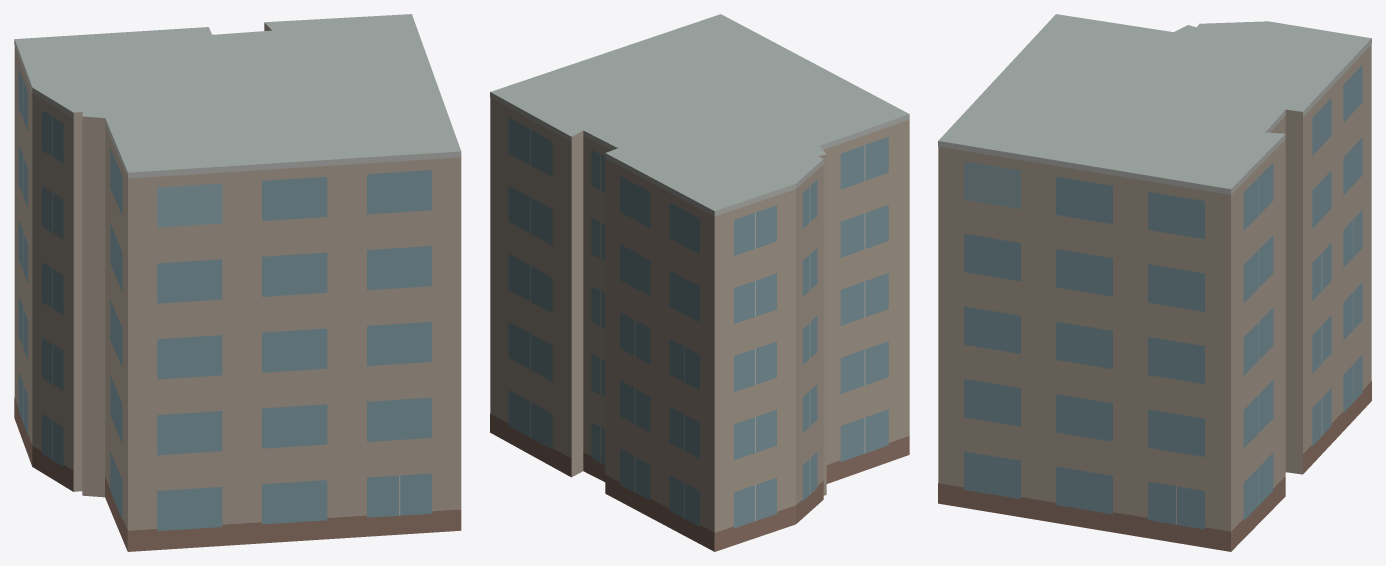
Rendered from survey-upis-33043607.glb.
3 renders of one model, left to right at view 1: azimuth 30°, elevation 25°; view 2: azimuth 150°, elevation 25°; view 3: azimuth 270°, elevation 25°, orthographic. The views are drawn at different scales.
Parts seen in each view (by area): view 1: survey-upis-33043607.tmp; view 2: survey-upis-33043607.tmp; view 3: survey-upis-33043607.tmp.
Boxes of the visible parts, left/top/right/bottom form: survey-upis-33043607.tmp: left=14, top=14, right=461, bottom=551; survey-upis-33043607.tmp: left=490, top=14, right=909, bottom=551; survey-upis-33043607.tmp: left=938, top=14, right=1371, bottom=551.
Size of the model in its own units: 16.12 by 15.55 by 16.86.
